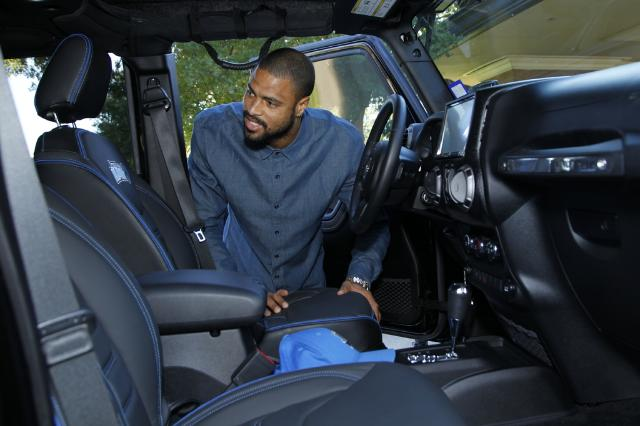Seatbelt: (0, 55, 120, 426), (146, 106, 214, 268)
